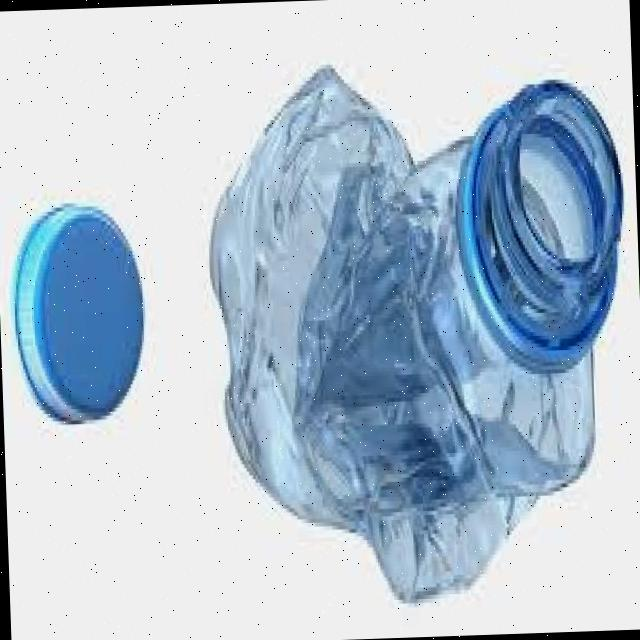bottle: (198, 44, 640, 616)
cap: (11, 193, 150, 424)
